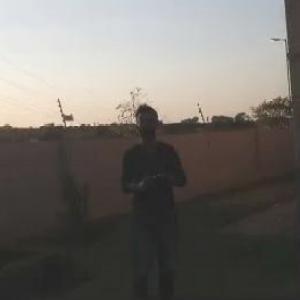follow: (117, 100, 192, 297)
